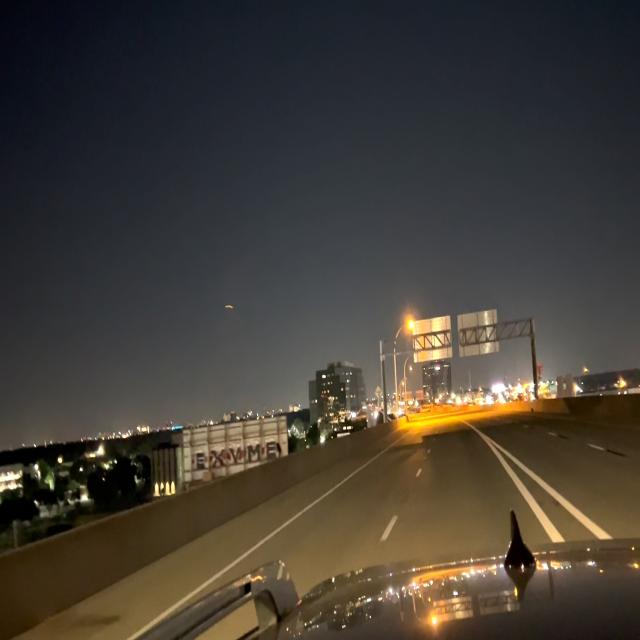back-of-sign: (459, 304, 498, 361), (411, 315, 452, 361)
